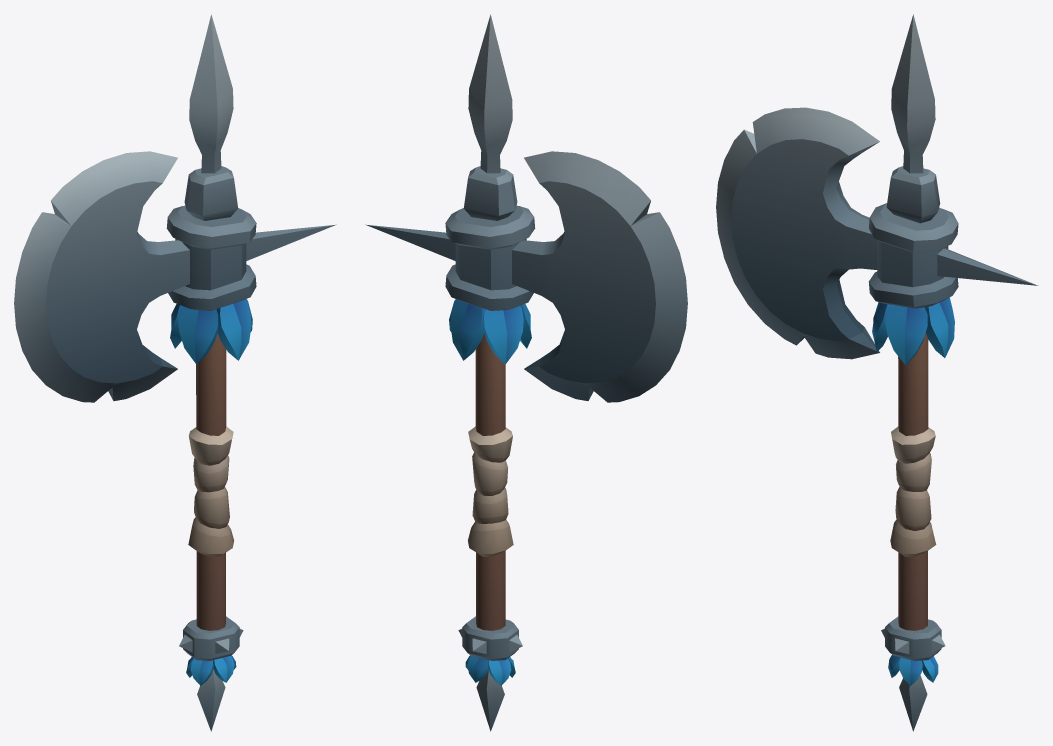
File: halberd.glb
3 renders of one model, left to right at view 1: azimuth 30°, elevation 25°; view 2: azimuth 150°, elevation 25°; view 3: azimuth 330°, elevation 25°, orthographic.
Parts seen in each view (by area): view 1: halberd; view 2: halberd; view 3: halberd.
Part boxes in pixels (x1,y1,x2,y2): halberd: [14, 14, 336, 731]; halberd: [365, 14, 687, 731]; halberd: [716, 14, 1038, 731].
Bounding box in the file's own units: 1.29 × 2.75 × 0.291.
Materials: 1 (1 with a texture image).
